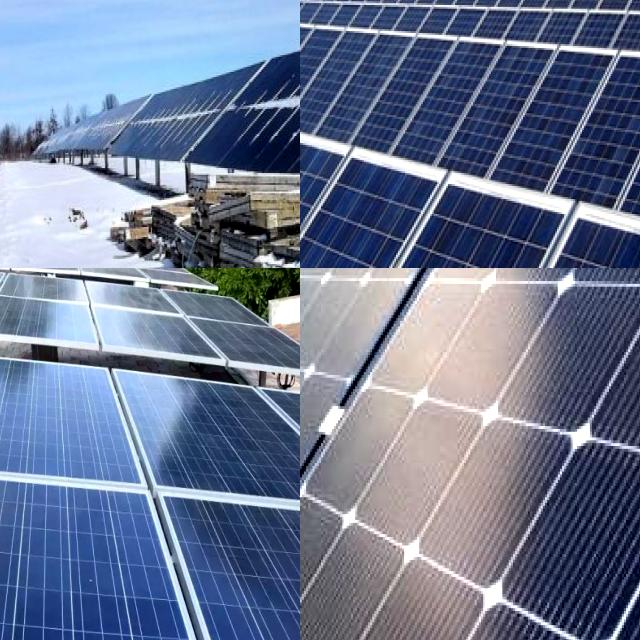crack: (300, 268, 640, 640), (102, 353, 300, 532), (0, 486, 194, 640), (139, 479, 300, 640), (0, 348, 159, 504)
panel: (0, 108, 43, 185), (0, 0, 33, 69), (0, 52, 48, 95), (0, 57, 21, 132), (0, 69, 17, 158), (0, 153, 21, 222), (0, 105, 34, 147), (0, 159, 15, 212)
